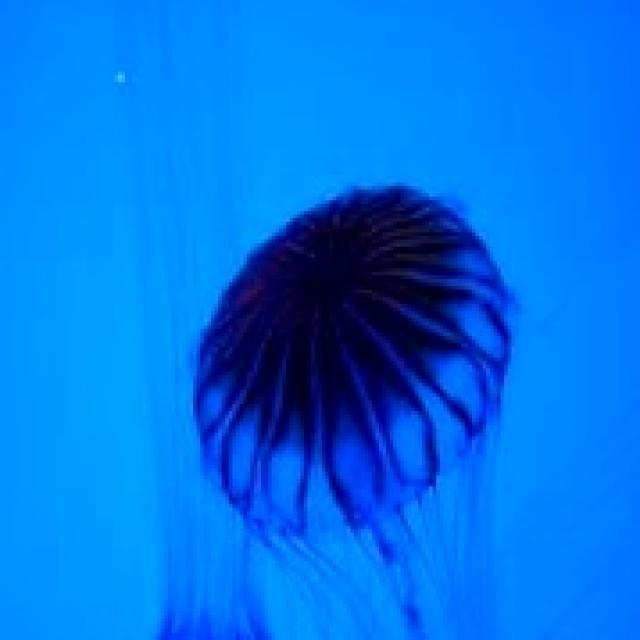Human: (150, 179, 519, 636)
